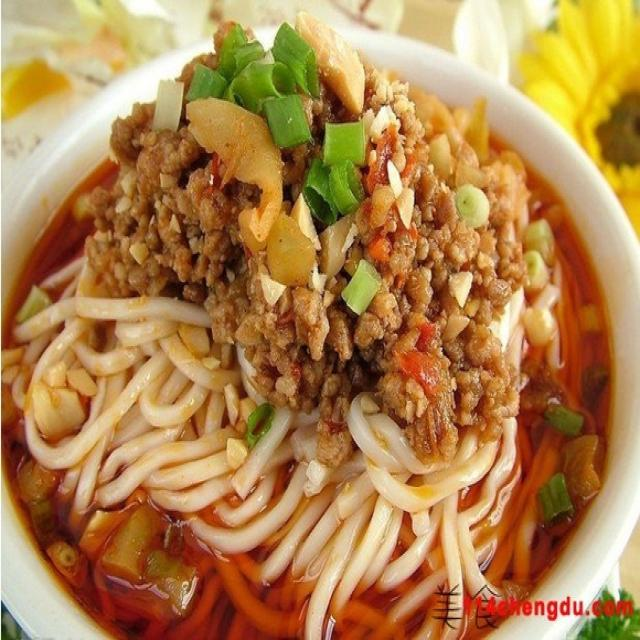面条主食: (14, 26, 624, 602)
